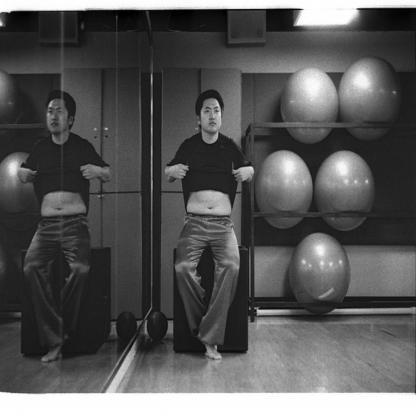Ball: (340, 59, 400, 143), (290, 232, 351, 314), (313, 153, 376, 229), (256, 150, 312, 232), (282, 67, 338, 143), (0, 151, 36, 215), (0, 71, 20, 123)
